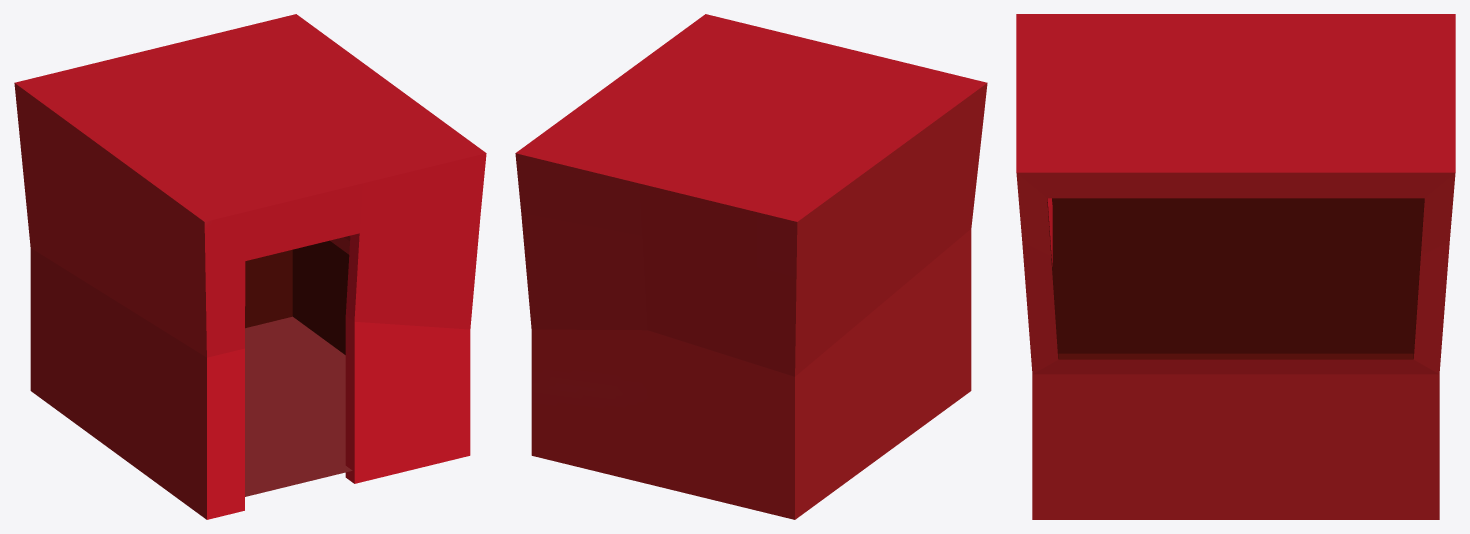
Rendered from cabina.fbx.
3 renders of one model, left to right at view 1: azimuth 30°, elevation 25°; view 2: azimuth 150°, elevation 25°; view 3: azimuth 270°, elevation 25°, orthographic. The views are drawn at different scales.
Visible parts, largest first — view 1: CASETA; view 2: CASETA; view 3: CASETA.
Boxes of the visible parts, box(x1,y1,x2,y2) form: CASETA: box(14, 14, 486, 519); CASETA: box(515, 14, 987, 519); CASETA: box(1016, 14, 1455, 519).
Size of the model in its own units: 787 by 815 by 920.
1 material, 1 textured.
